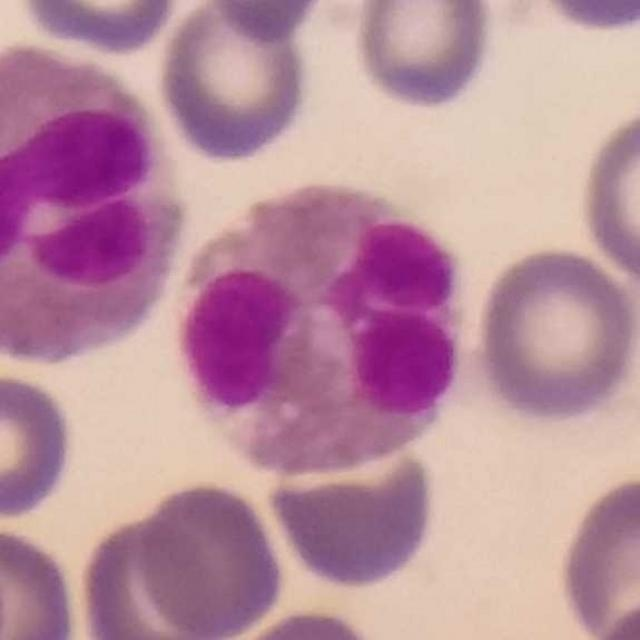Eosinophil: (170, 172, 468, 482), (0, 40, 186, 364)
RBC: (471, 242, 640, 428), (262, 425, 440, 592), (152, 1, 315, 167), (132, 476, 288, 640), (74, 511, 235, 640), (347, 1, 500, 115), (553, 468, 640, 640), (574, 98, 640, 293), (0, 368, 80, 524), (0, 520, 83, 640), (12, 0, 186, 57), (214, 604, 394, 640), (198, 0, 333, 45), (521, 0, 640, 38), (583, 587, 640, 640)
